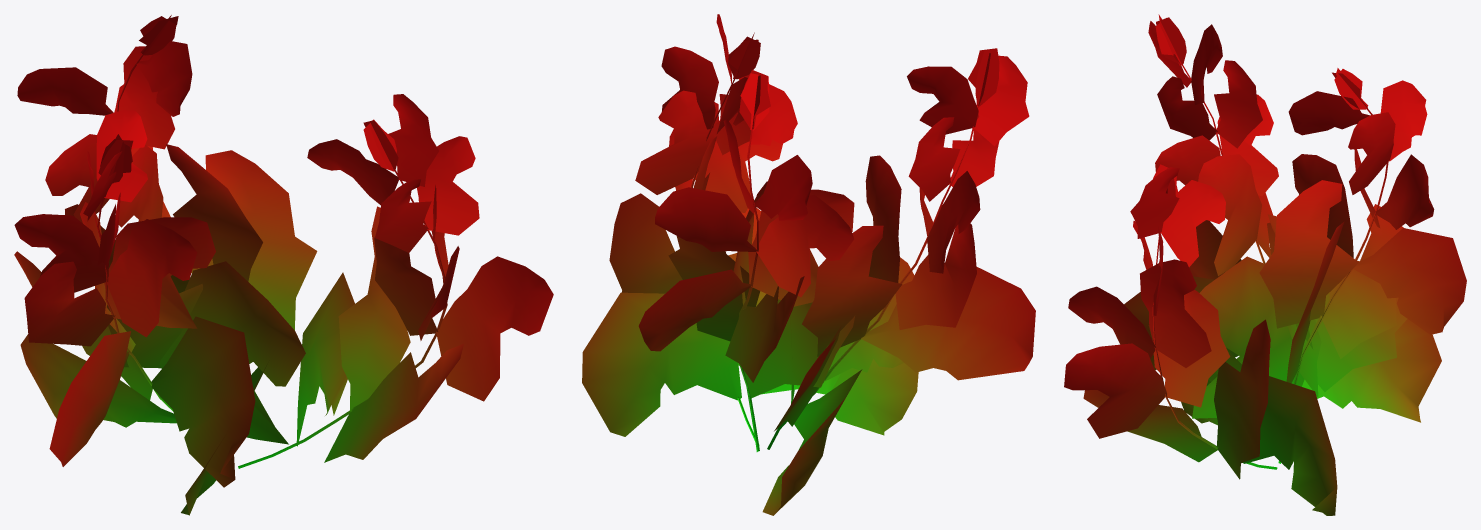
File: White Ramping Fumitory_LOD0_Var2_ti4efc3ia.fbx
The picture shows the model from 3 angles, left to right: view 1: azimuth 30°, elevation 25°; view 2: azimuth 150°, elevation 25°; view 3: azimuth 270°, elevation 25°; orthographic projection. The views are drawn at different scales.
Visible parts, largest first — view 1: _e572_Var2_LOD0; view 2: _e572_Var2_LOD0; view 3: _e572_Var2_LOD0.
Part boxes in pixels (bbox=[...]): _e572_Var2_LOD0: bbox=[14, 15, 553, 515]; _e572_Var2_LOD0: bbox=[582, 14, 1035, 515]; _e572_Var2_LOD0: bbox=[1064, 14, 1466, 515].
Size of the model in its own units: 83.43 by 79.37 by 75.47.
